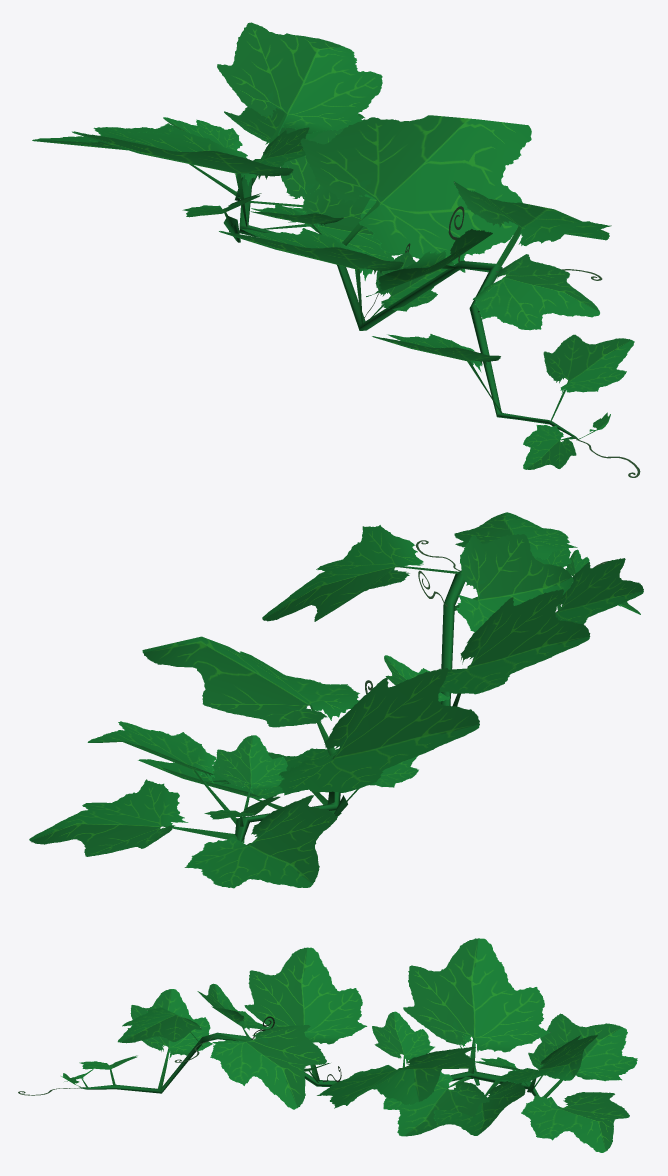
Rendered from PT_Pumpkin_02.fbx.
The picture shows the model from 3 angles, top to bottom: view 1: azimuth 30°, elevation 25°; view 2: azimuth 150°, elevation 25°; view 3: azimuth 270°, elevation 25°; orthographic projection. The views are drawn at different scales.
Visible parts, largest first — view 1: PT_Pumpkin_02_LOD0; view 2: PT_Pumpkin_02_LOD0; view 3: PT_Pumpkin_02_LOD0.
Part boxes in pixels (x1,y1,x2,y2): PT_Pumpkin_02_LOD0: [32, 22, 640, 477]; PT_Pumpkin_02_LOD0: [29, 512, 643, 888]; PT_Pumpkin_02_LOD0: [18, 938, 637, 1152].
Size of what is drawn, in the model's own units: 139 by 49.19 by 267.
